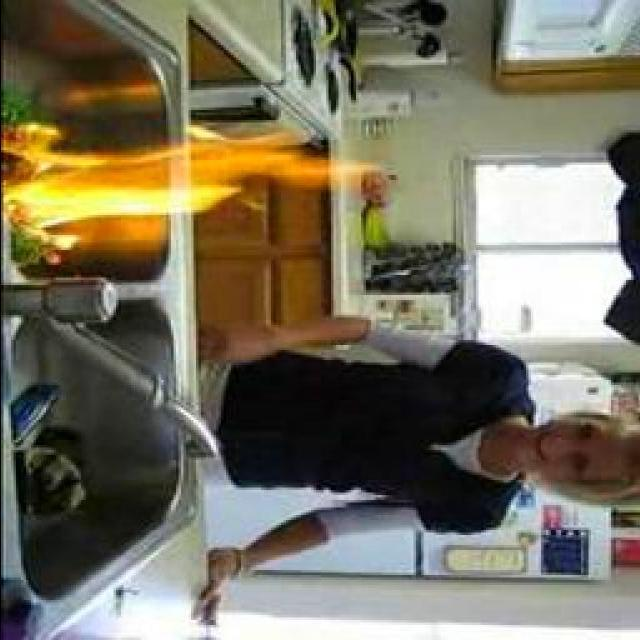Fire: (6, 121, 370, 248)
